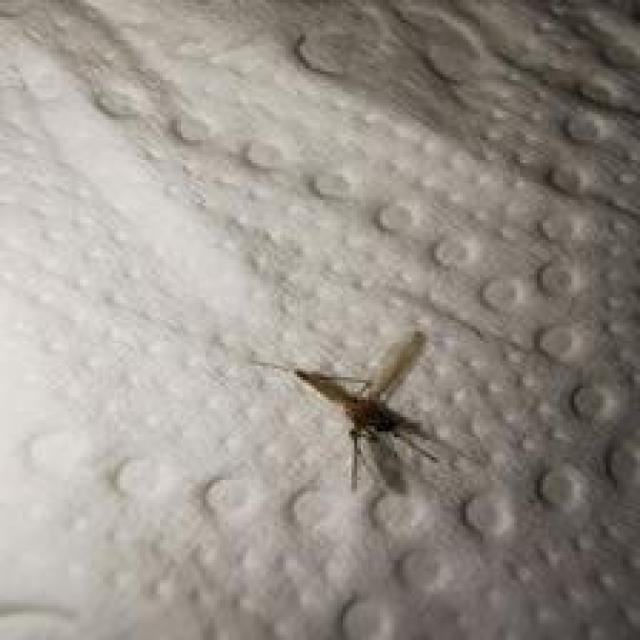Culex: (254, 327, 483, 496)
